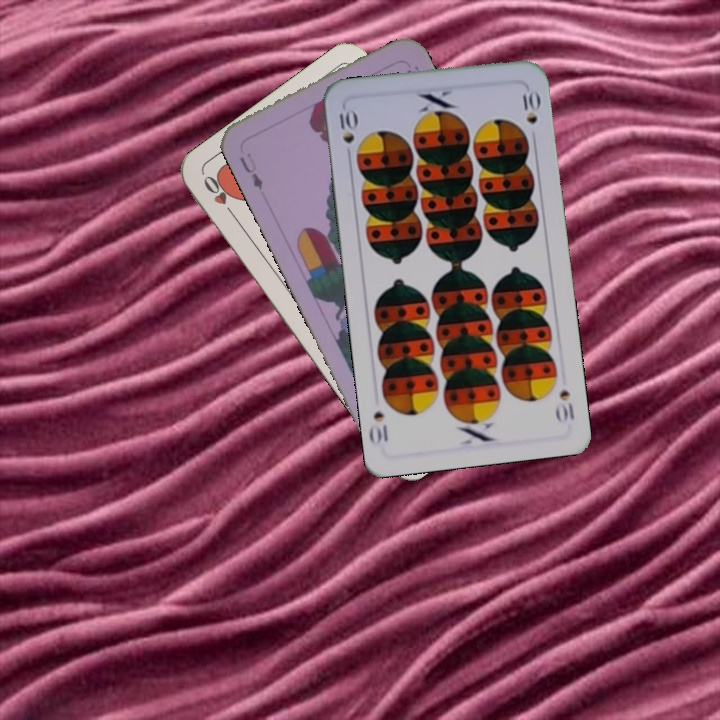EU: (235, 152, 266, 193)
HO: (199, 171, 240, 222)
S10: (332, 106, 359, 163), (552, 385, 577, 426)
